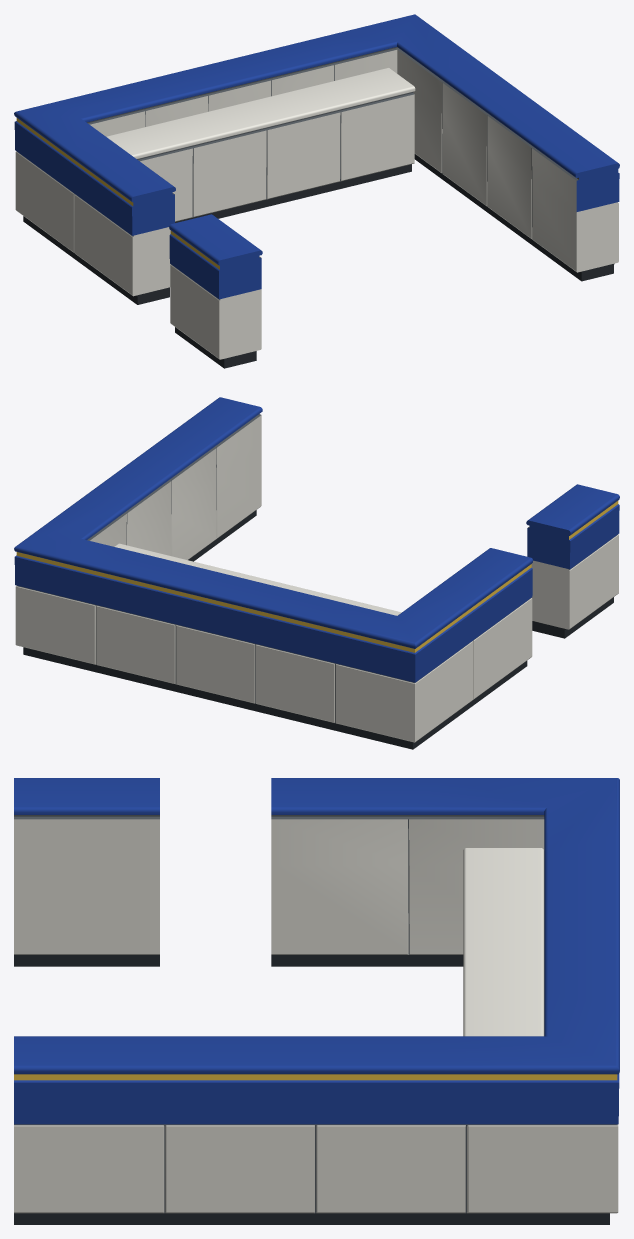
File: checkout-counter-usquare-rounded.glb
The picture shows the model from 3 angles, top to bottom: view 1: azimuth 30°, elevation 25°; view 2: azimuth 150°, elevation 25°; view 3: azimuth 270°, elevation 25°; orthographic projection. The views are drawn at different scales.
Parts seen in each view (by area): view 1: usquare-surround-0.001, usquare-work-cabinet.001, usquare-surround-1.001; view 2: usquare-surround-0.001, usquare-surround-1.001, usquare-work-cabinet.001; view 3: usquare-surround-0.001, usquare-surround-1.001, usquare-work-cabinet.001.
Part boxes in pixels (x1,y1,x2,y2): usquare-surround-0.001: (14, 14, 619, 304); usquare-work-cabinet.001: (106, 67, 415, 222); usquare-surround-1.001: (169, 214, 262, 368); usquare-surround-0.001: (14, 397, 533, 749); usquare-surround-1.001: (526, 484, 619, 638); usquare-work-cabinet.001: (115, 543, 401, 615); usquare-surround-0.001: (14, 778, 619, 1224); usquare-surround-1.001: (14, 778, 159, 966); usquare-work-cabinet.001: (463, 848, 544, 1036).
Size of the model in its own units: 13.6 by 3.54 by 11.99.
